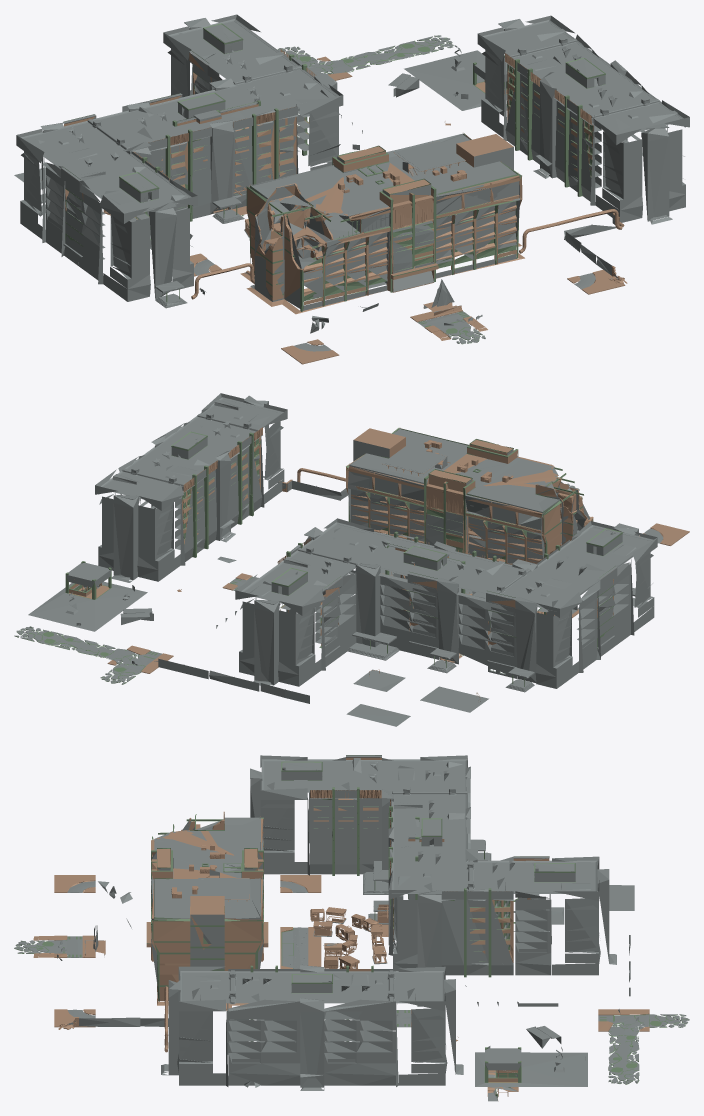
The model's file is apartments_complex_1-mid.glb.
3 renders of one model, top to bottom at view 1: azimuth 30°, elevation 25°; view 2: azimuth 150°, elevation 25°; view 3: azimuth 270°, elevation 25°, orthographic. The views are drawn at different scales.
Visible parts, largest first — view 1: HLOD_apartment_complex_1, wall_300x300_LOD0, apartment_complex_core_facade_LOD0; view 2: HLOD_apartment_complex_1, wall_300x300_LOD0, apartment_complex_core_facade_LOD0; view 3: HLOD_apartment_complex_1, wall_300x300_LOD0, apartment_complex_core_facade_LOD0.
Part boxes in pixels (left/top/right/bottom): HLOD_apartment_complex_1: left=14, top=14, right=689, bottom=351; wall_300x300_LOD0: left=41, top=49, right=627, bottom=364; apartment_complex_core_facade_LOD0: left=62, top=23, right=605, bottom=344; HLOD_apartment_complex_1: left=15, top=393, right=663, bottom=726; wall_300x300_LOD0: left=69, top=427, right=689, bottom=701; apartment_complex_core_facade_LOD0: left=14, top=428, right=622, bottom=686; HLOD_apartment_complex_1: left=15, top=755, right=689, bottom=1101; wall_300x300_LOD0: left=33, top=757, right=649, bottom=1098; apartment_complex_core_facade_LOD0: left=14, top=755, right=689, bottom=1097.
Bounding box in the file's own units: 173 × 37.34 × 198.
